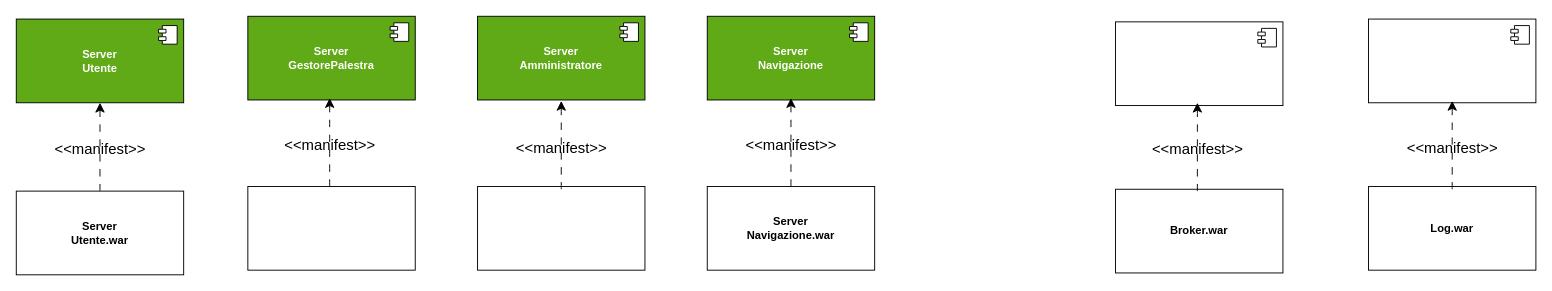
Image size: 1552x291. Some labels were removed from this diagram. The centre of each missing label's shape, as x and y in pixels:
Broker: the point at 1199,63
Log: the point at 1452,60
Server Amministratore . war: the point at 561,228
Server GestorePalestra.war: the point at 331,228
